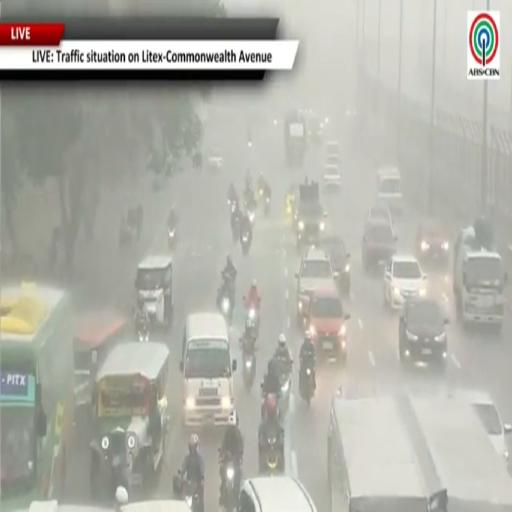bus: (0, 283, 73, 511)
car: (399, 297, 447, 367), (295, 247, 338, 325), (307, 285, 350, 361), (468, 391, 511, 460), (239, 475, 316, 511), (384, 254, 426, 309), (362, 220, 397, 271), (321, 235, 350, 295), (415, 219, 449, 264), (377, 166, 402, 215), (367, 202, 392, 226), (323, 155, 341, 188), (208, 148, 223, 169), (326, 141, 339, 157)
jeepney: (90, 342, 169, 499), (74, 309, 128, 426), (135, 254, 173, 327)
motorcycle: (219, 451, 241, 511), (259, 423, 284, 473), (173, 471, 200, 511), (240, 333, 256, 390), (261, 383, 282, 420), (217, 280, 233, 323), (299, 362, 314, 406), (279, 363, 291, 414), (246, 304, 260, 337), (231, 214, 241, 242), (240, 231, 251, 255), (168, 228, 176, 249), (138, 328, 149, 342), (228, 199, 238, 213), (264, 196, 270, 216), (248, 207, 255, 223)
truck: (453, 218, 507, 329), (296, 182, 326, 252), (284, 111, 307, 168)
